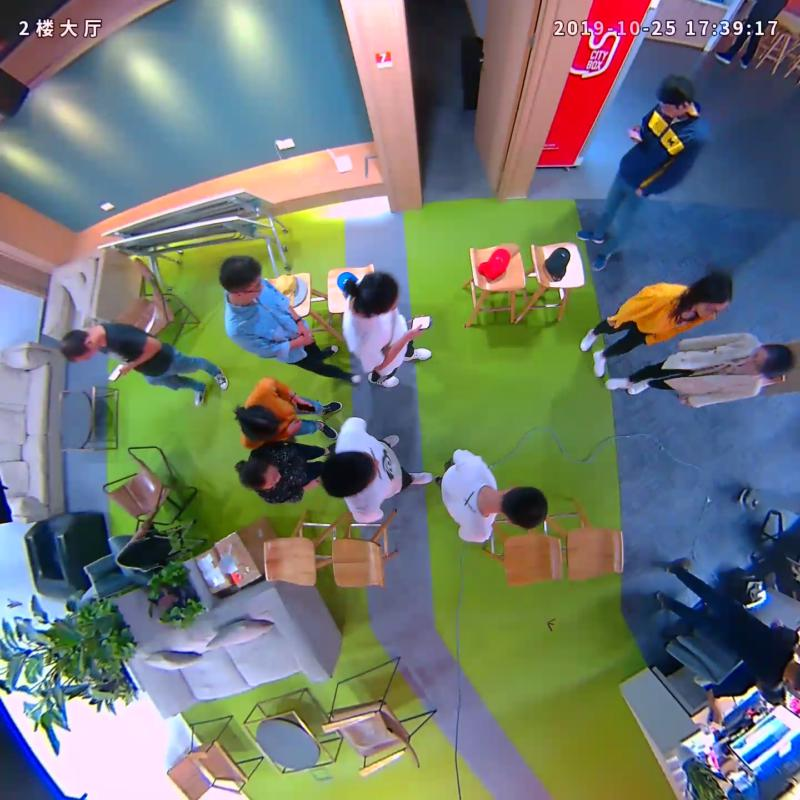head: (321, 450, 381, 499), (497, 485, 549, 531), (352, 271, 400, 317), (691, 273, 733, 321), (219, 255, 263, 299), (655, 74, 693, 119), (743, 344, 794, 377), (237, 404, 279, 443), (237, 455, 281, 491), (59, 328, 101, 362)
